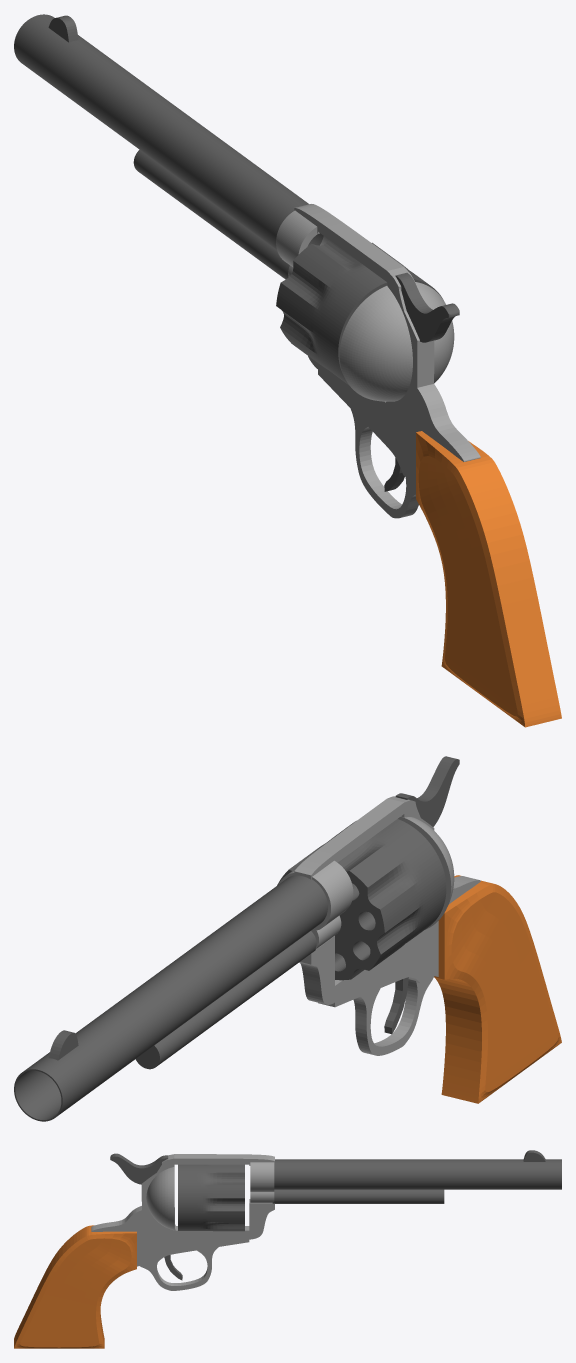
File: Revolver_MOD_0025.fbx
3 renders of one model, top to bottom at view 1: azimuth 30°, elevation 25°; view 2: azimuth 150°, elevation 25°; view 3: azimuth 270°, elevation 25°, orthographic. The views are drawn at different scales.
Parts seen in each view (by area): view 1: _Handle, _Main_Barrel, _Body, _Chamber, _BulletBacking, _Piston_chamber, _Trigger_cage, _Hammer, _Body_barrels; view 2: _Main_Barrel, _Handle, _Chamber, _Body, _Piston_chamber, _Trigger_cage, _Body_barrels, _Hammer, _BulletBacking, _Trigger, _Scope; view 3: _Handle, _Main_Barrel, _Body, _Chamber, _Piston_chamber, _BulletBacking, _Body_barrels, _Trigger_cage, _Hammer.
Part boxes in pixels (x1=…): _Handle: x1=416, y1=431, x2=561, y2=727; _Main_Barrel: x1=14, y1=14, x2=323, y2=249; _Body: x1=294, y1=204, x2=480, y2=486; _Chamber: x1=276, y1=240, x2=442, y2=384; _BulletBacking: x1=339, y1=282, x2=454, y2=401; _Piston_chamber: x1=133, y1=149, x2=289, y2=279; _Trigger_cage: x1=351, y1=409, x2=418, y2=518; _Hammer: x1=395, y1=272, x2=459, y2=342; _Body_barrels: x1=276, y1=210, x2=328, y2=277; _Main_Barrel: x1=14, y1=875, x2=327, y2=1121; _Handle: x1=434, y1=875, x2=561, y2=1103; _Chamber: x1=277, y1=819, x2=446, y2=980; _Body: x1=294, y1=796, x2=480, y2=1007; _Piston_chamber: x1=135, y1=931, x2=316, y2=1069; _Trigger_cage: x1=353, y1=976, x2=433, y2=1055; _Body_barrels: x1=278, y1=860, x2=353, y2=949; _Hammer: x1=395, y1=756, x2=459, y2=826; _BulletBacking: x1=398, y1=816, x2=454, y2=929; _Trigger: x1=384, y1=977, x2=408, y2=1034; _Scope: x1=48, y1=1030, x2=78, y2=1060; _Handle: x1=14, y1=1225, x2=136, y2=1348; _Main_Barrel: x1=274, y1=1159, x2=561, y2=1189; _Body: x1=91, y1=1154, x2=274, y2=1266; _Chamber: x1=178, y1=1164, x2=244, y2=1231; _Piston_chamber: x1=272, y1=1189, x2=444, y2=1203; _BulletBacking: x1=146, y1=1165, x2=174, y2=1230; _Body_barrels: x1=250, y1=1162, x2=274, y2=1202; _Trigger_cage: x1=139, y1=1247, x2=218, y2=1290; _Hammer: x1=110, y1=1153, x2=167, y2=1184.
Bounding box in the file's own units: 252 × 754 × 1945.
